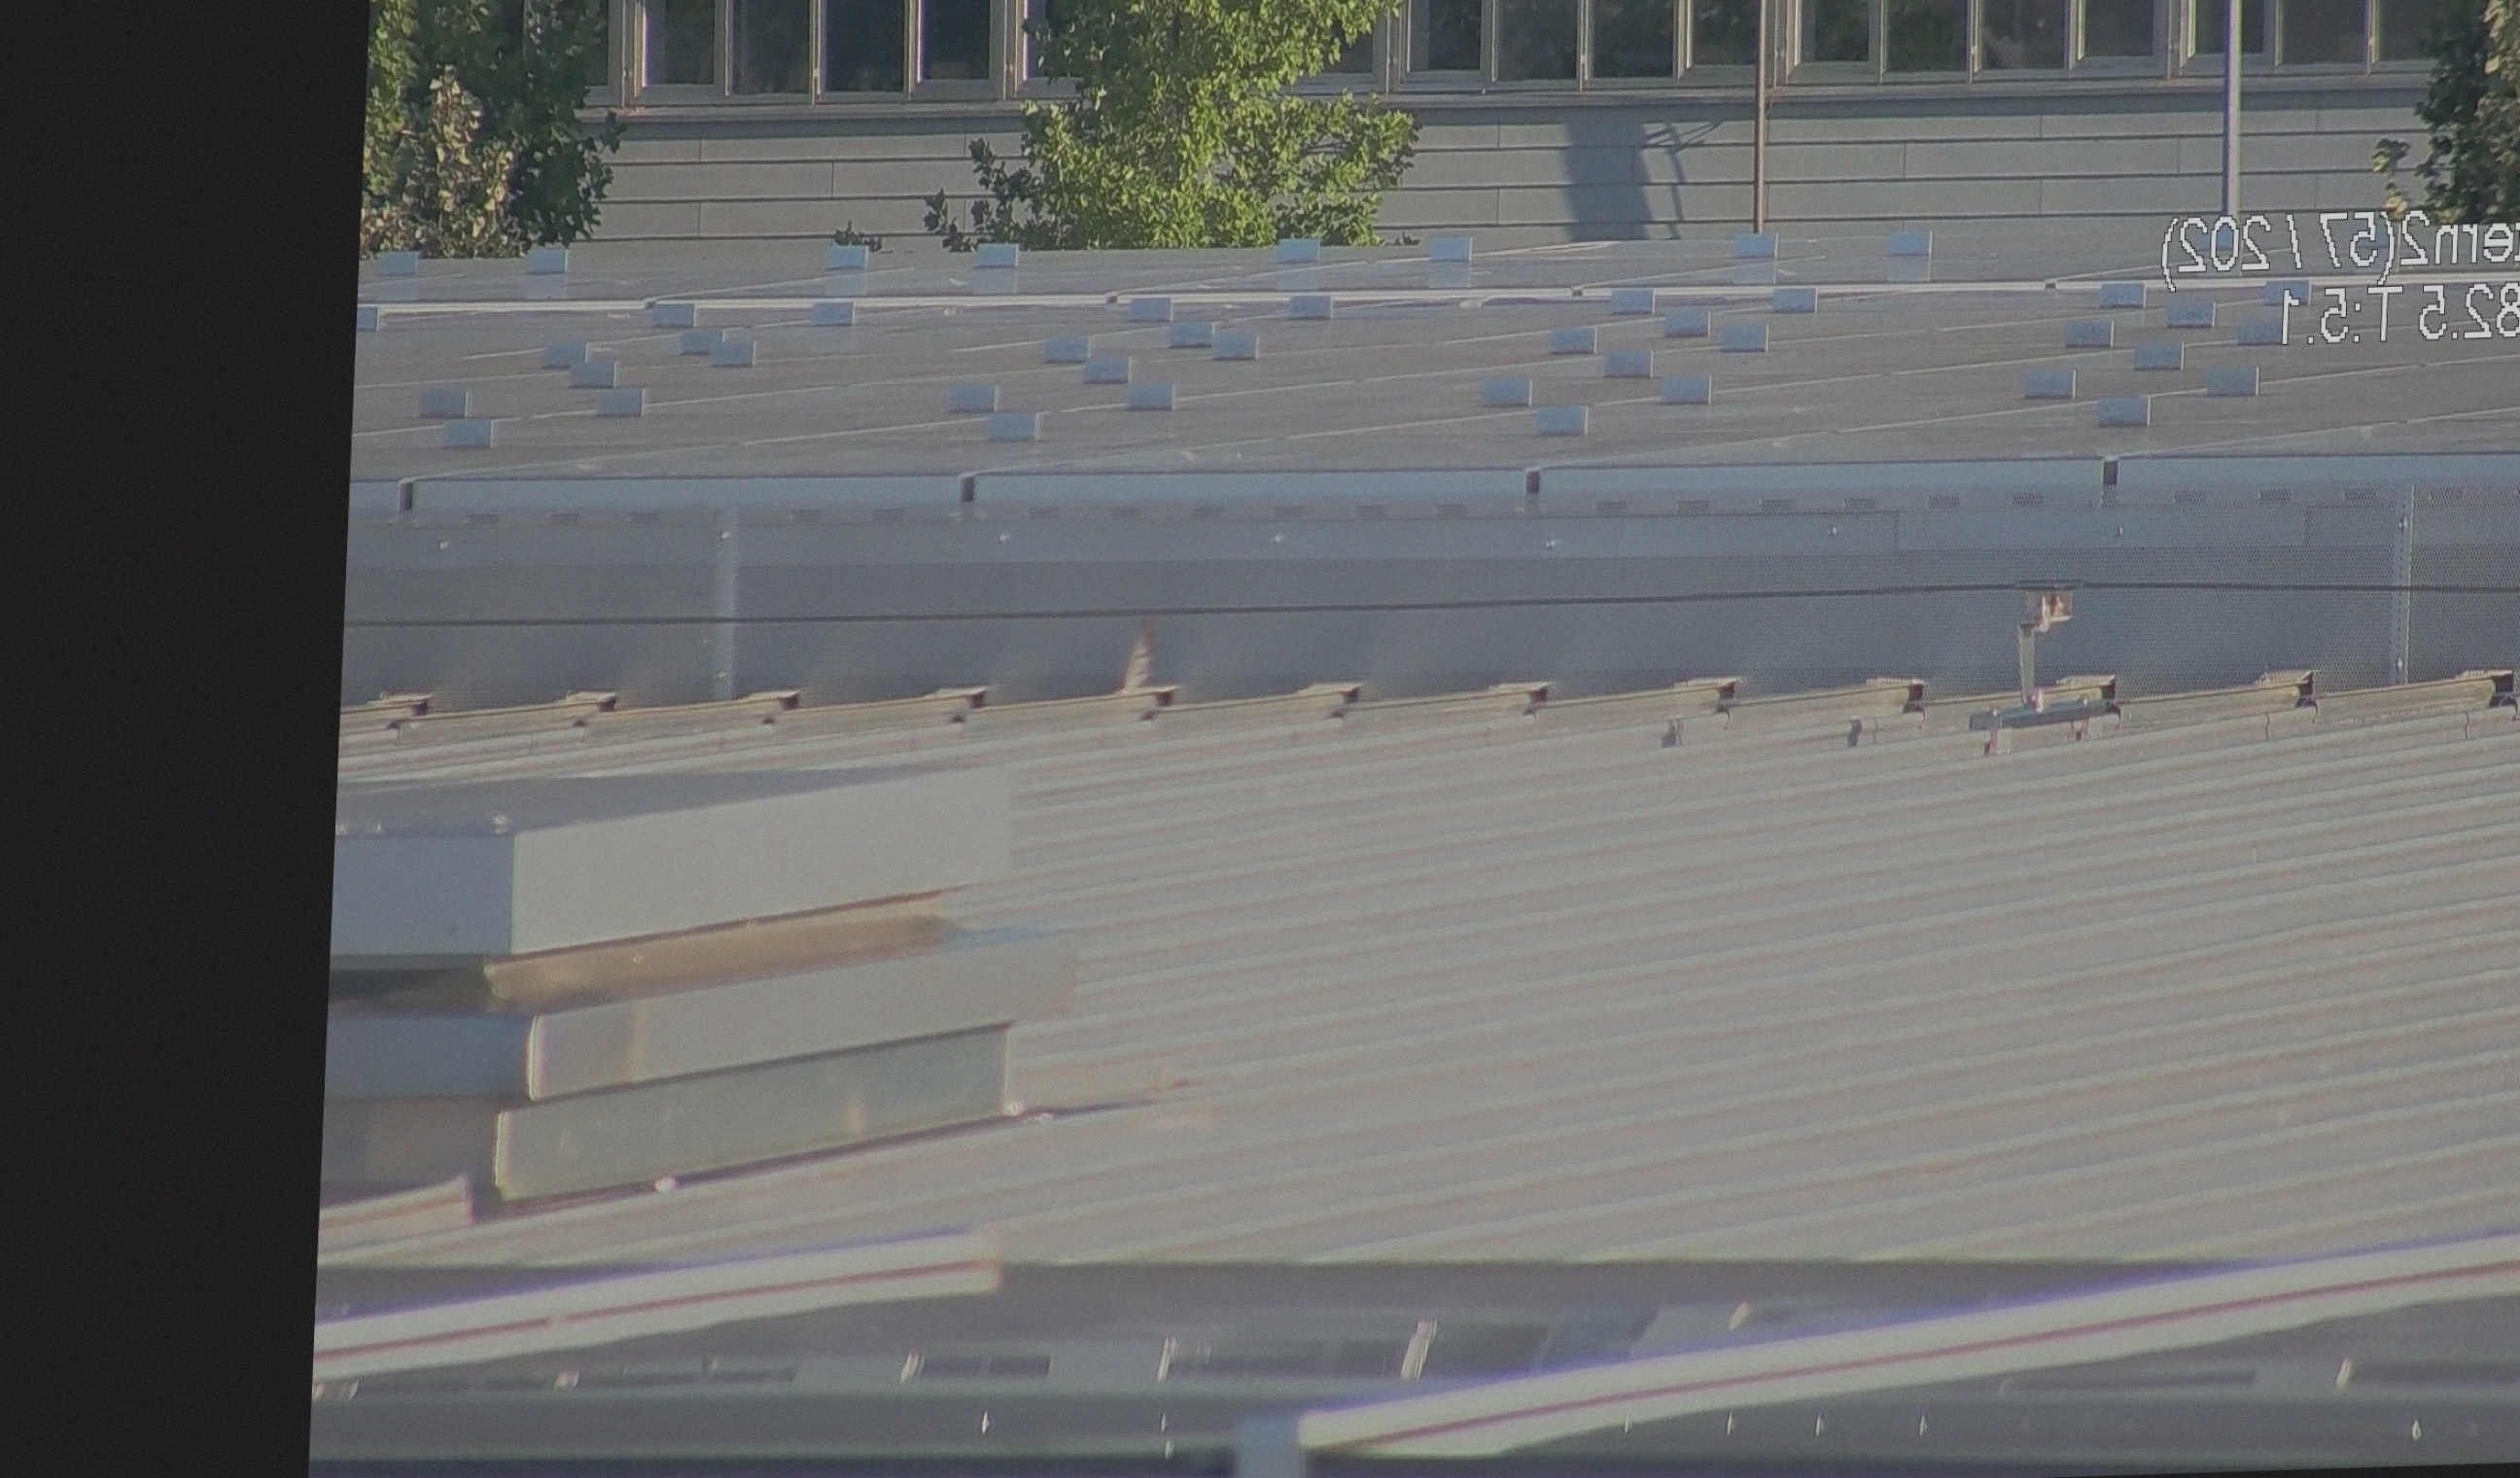Other: (1101, 604, 1175, 732)
